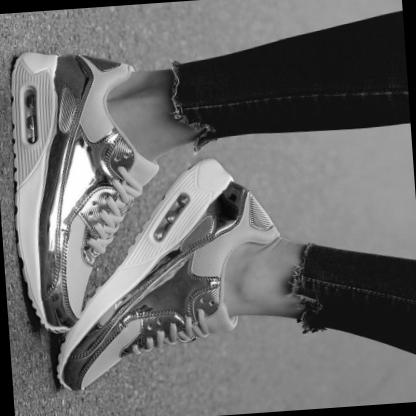ankle: (103, 109, 107, 115), (227, 249, 231, 254)
heel: (57, 61, 64, 69), (227, 183, 233, 189)
left_foot: (3, 47, 152, 337)
pinky: (42, 263, 49, 272), (93, 378, 95, 381)
right_foot: (60, 154, 287, 393)
toe: (76, 350, 80, 356), (64, 315, 68, 319)
